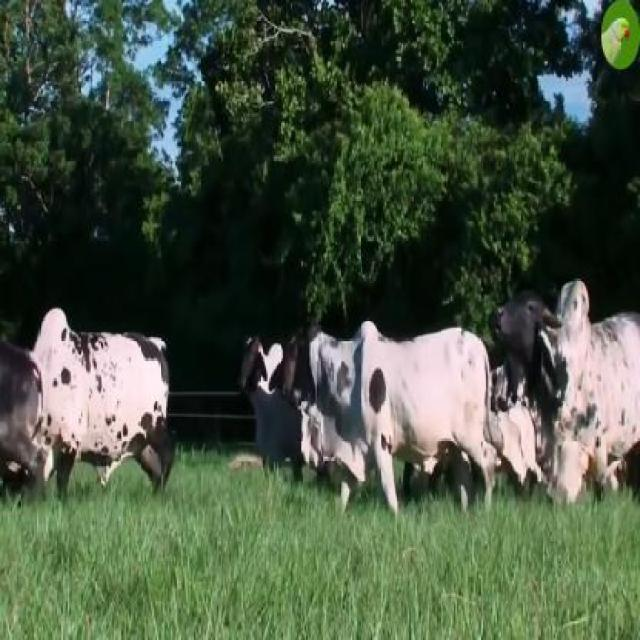Cow: (280, 322, 491, 522)
